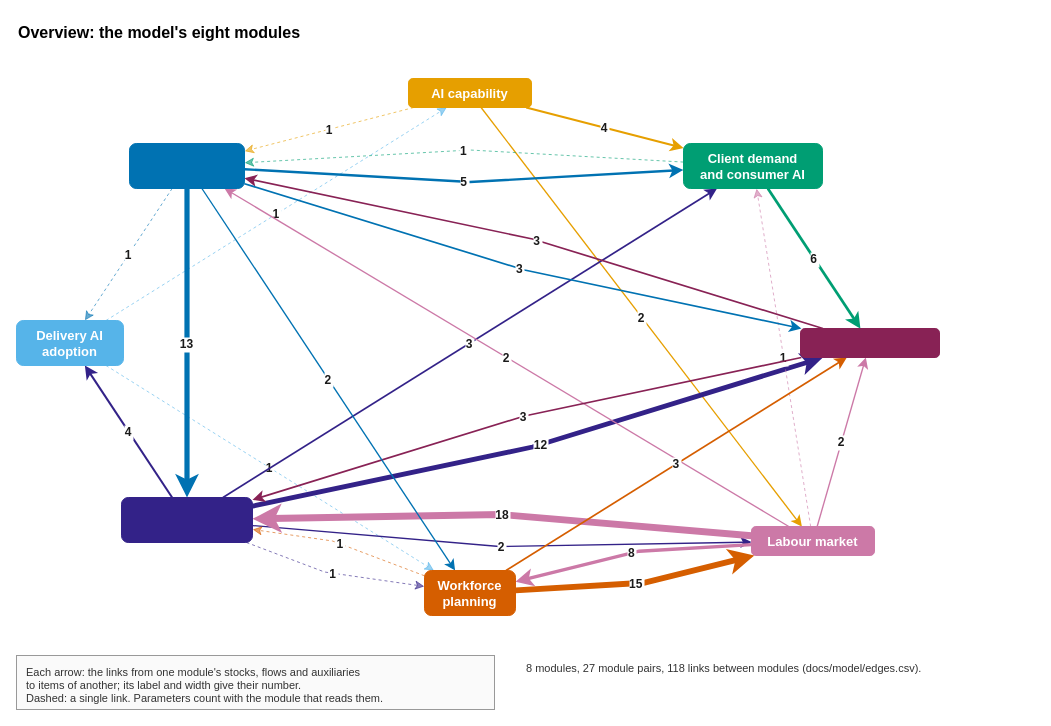
Some shapes in this 1051 by 726 pixel diagram are drawn without their labels. Each missing label, with the centre of its shape:
"Sourcing choice" belongs at point (870, 343).
"Vendor finance and contracts" belongs at point (186, 519).
"Work and productivity" belongs at point (186, 165).
